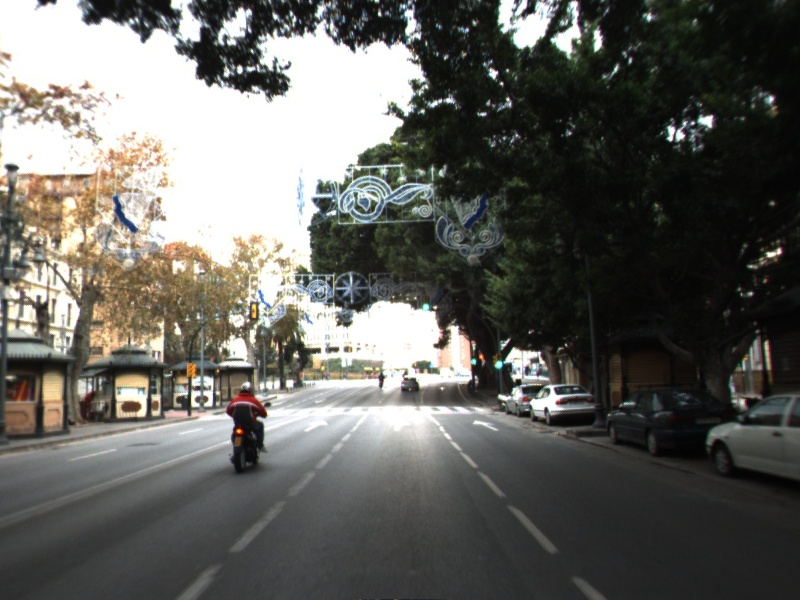STRAIGHT: (470, 418, 502, 433), (302, 417, 330, 434)
